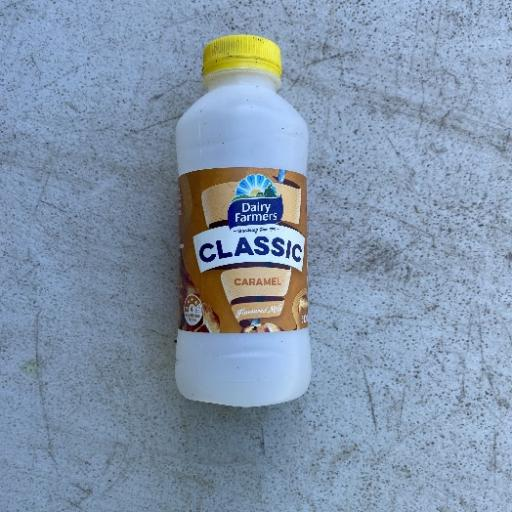Plastic: (171, 32, 314, 408)
